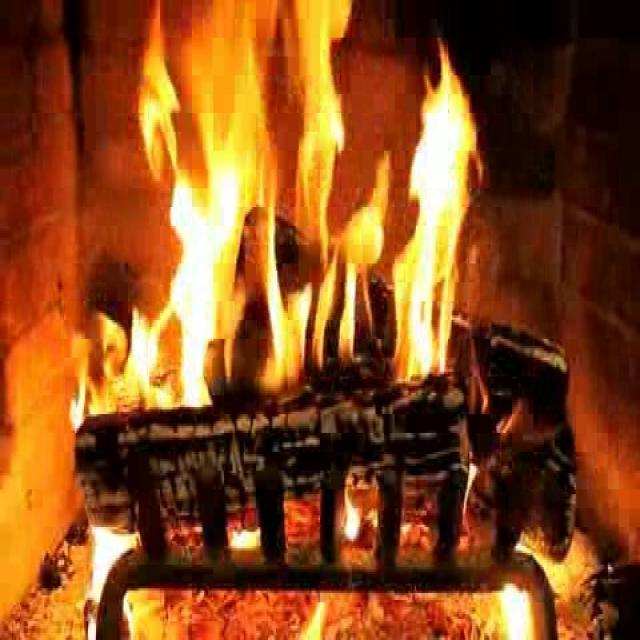fire: (135, 10, 477, 429)
